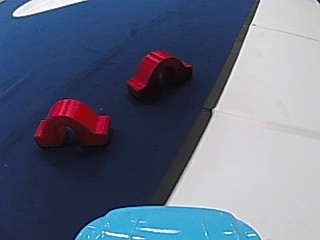bridge: (29, 94, 113, 149), (123, 45, 192, 103)
